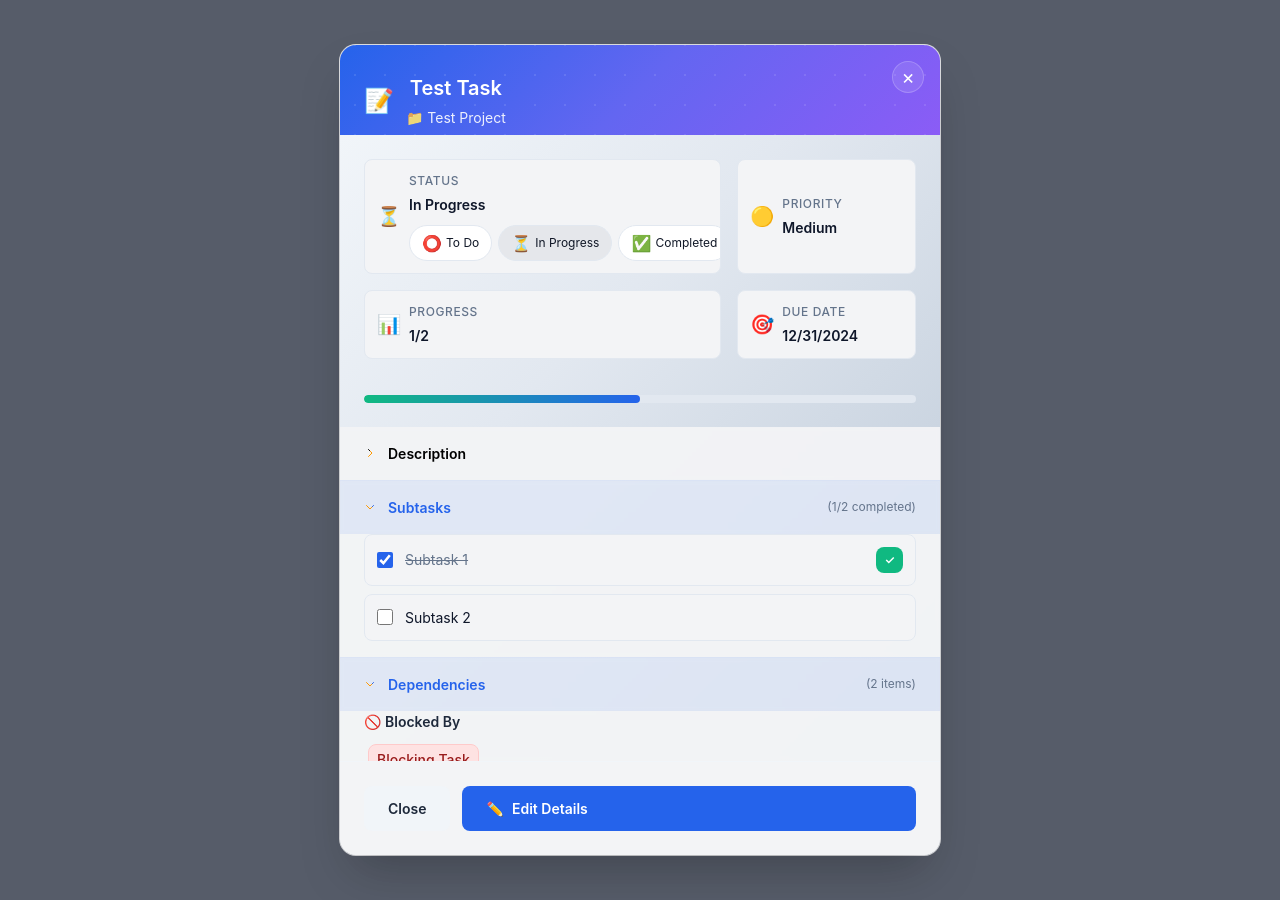
Test: TaskDetails › toggles section expansion when section headers are clicked
Description section should be collapsed initially
Click the heading "Description": (427, 453) [388,444,466,462]
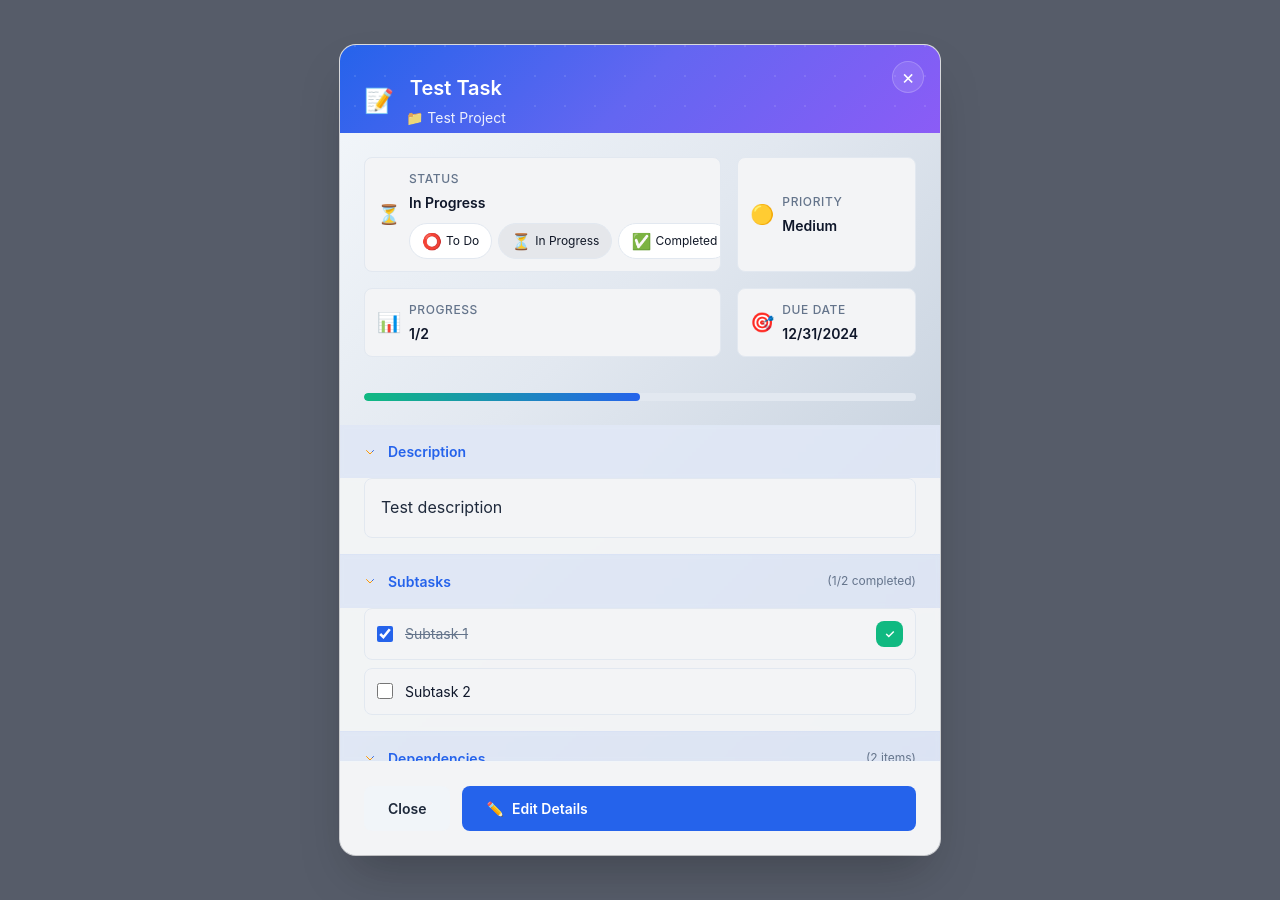
Now the text "Test description" is shown, box [364,478,916,538]
